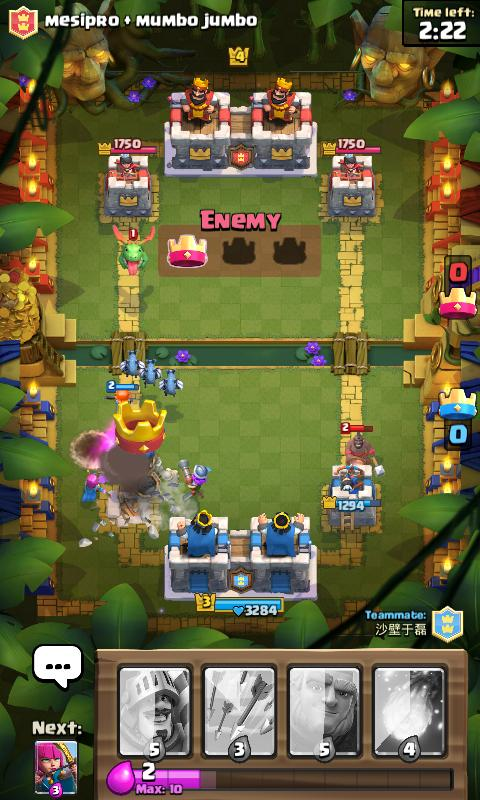ally_archer: (79, 468, 104, 503)
ally_giant_skeleton: (132, 449, 178, 500)
ally_minion: (157, 367, 183, 397), (119, 348, 144, 378), (139, 357, 161, 386)
ally_musketeer: (177, 456, 211, 501)
ally_valkyrie: (102, 379, 139, 411)
enemy_baby_dragon: (111, 223, 155, 276)
enemy_hog_rider: (338, 420, 385, 476)
